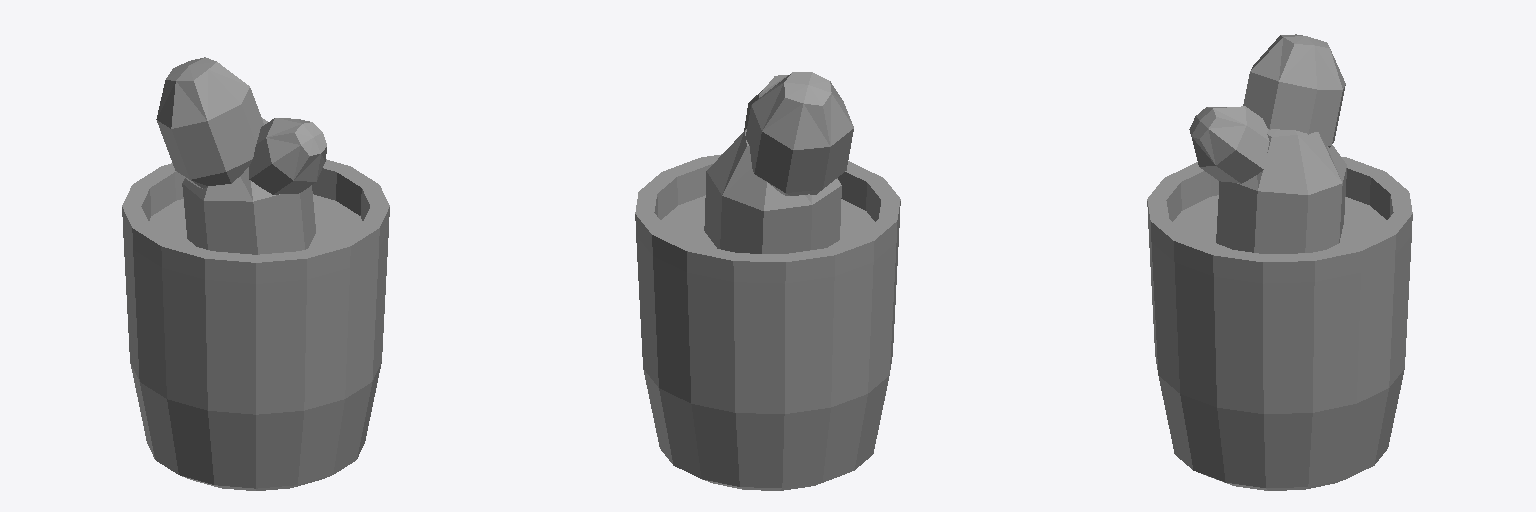
The model's file is origin_cactus.obj.
3 views of the same model, side by side, from view 1: azimuth 30°, elevation 25°; view 2: azimuth 150°, elevation 25°; view 3: azimuth 270°, elevation 25° (orthographic).
Parts seen in each view (by area): view 1: Cactus_Cylinder.014; view 2: Cactus_Cylinder.014; view 3: Cactus_Cylinder.014.
Boxes of the visible parts, box(x1,y1,x2,y2) form: Cactus_Cylinder.014: box(122, 57, 389, 490); Cactus_Cylinder.014: box(635, 72, 900, 490); Cactus_Cylinder.014: box(1147, 34, 1412, 490).
Bounding box in the file's own units: 0.4487 × 0.7331 × 0.4487.